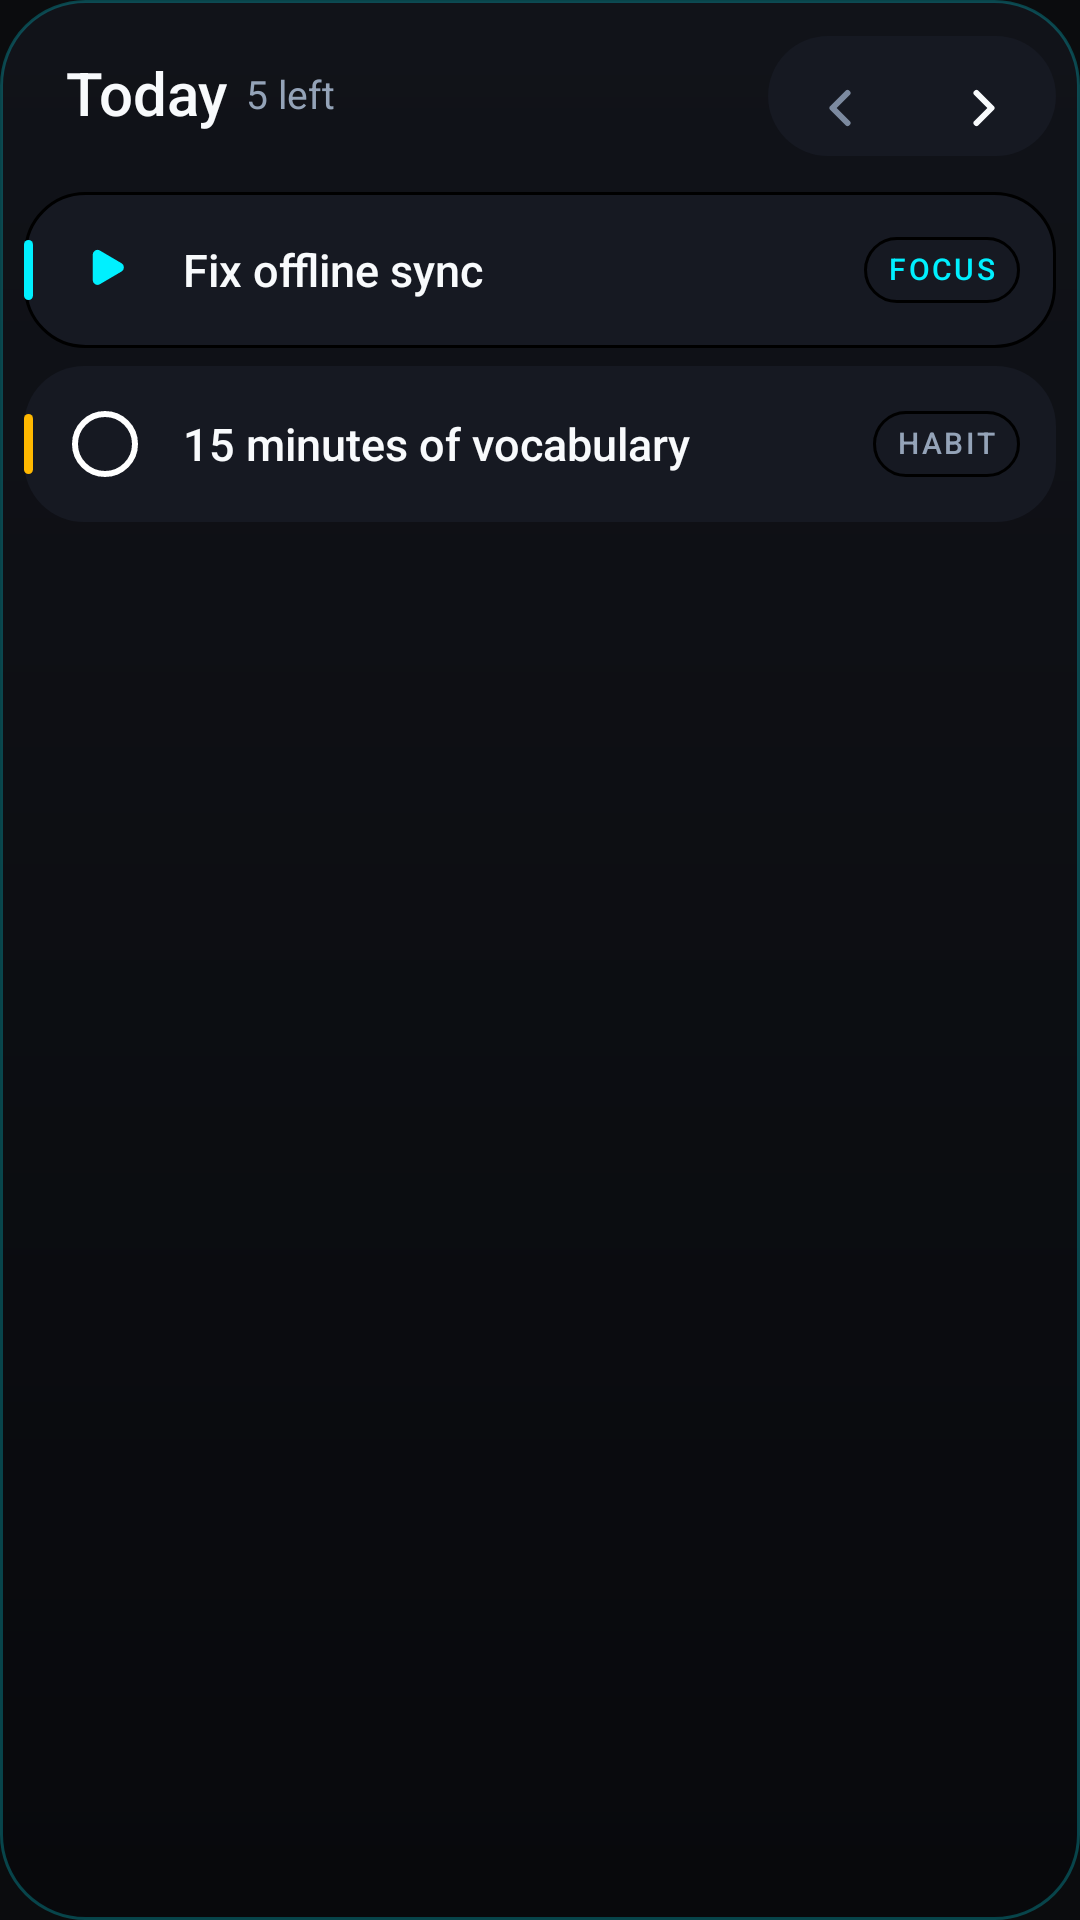

Icons on this 1080×1920 Android screen, each with its box as box=[x1, y1, x2, y2]:
widget chevron left: box=[768, 36, 912, 156]
widget chevron right: box=[912, 36, 1056, 156]
widget play: box=[92, 249, 124, 285]
widget ring: box=[72, 411, 138, 477]
